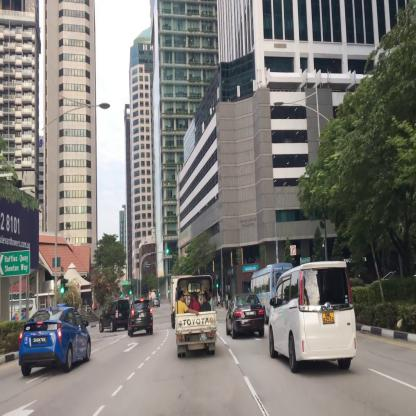green_traffic_light: (58, 274, 64, 294), (166, 246, 172, 257)
